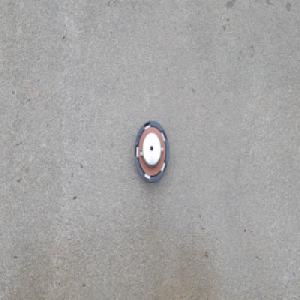FuelCap: (133, 118, 169, 183)
